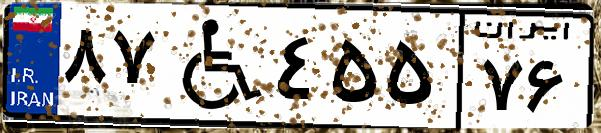4: (270, 28, 330, 110)
5: (385, 28, 445, 110), (330, 28, 385, 110)
6: (525, 38, 570, 115)
7: (475, 38, 525, 113), (110, 28, 158, 98)
8: (57, 26, 110, 100)
ژ (معلولین و جانبازان): (158, 12, 270, 120)
